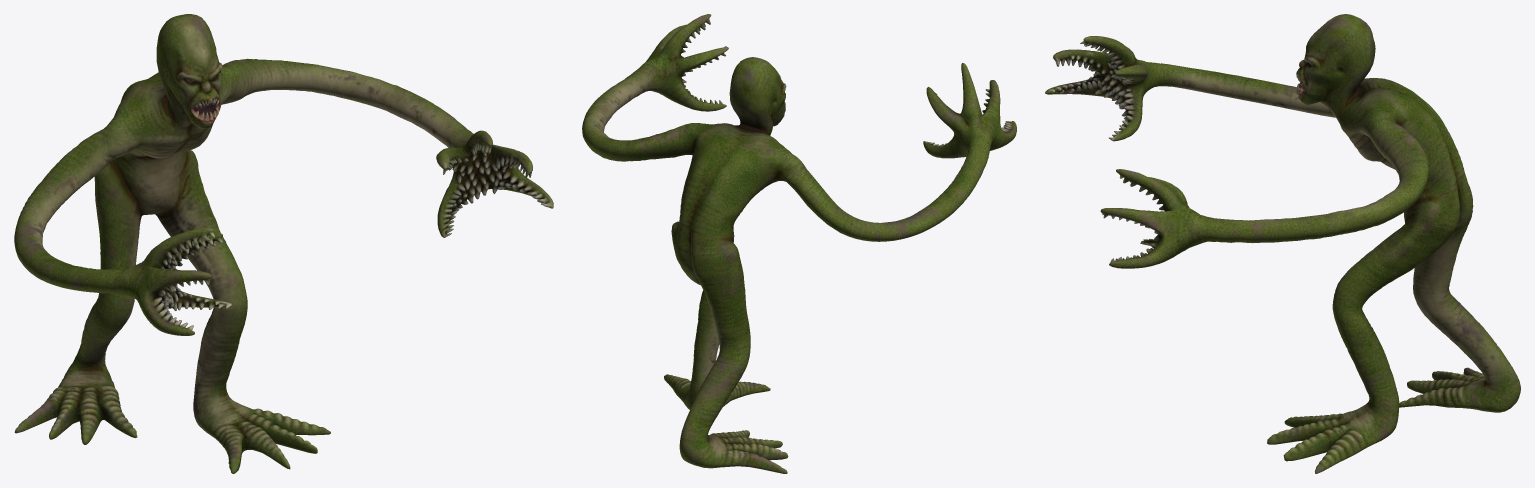
File: MZ4250 - Choker.glb
The picture shows the model from 3 angles, left to right: view 1: azimuth 30°, elevation 25°; view 2: azimuth 150°, elevation 25°; view 3: azimuth 270°, elevation 25°; orthographic projection. The views are drawn at different scales.
Parts seen in each view (by area): view 1: Body.002; view 2: Body.002; view 3: Body.002.
Part boxes in pixels (box(x1,y1,x2,y2)): Body.002: box(14, 14, 553, 473); Body.002: box(582, 14, 1016, 473); Body.002: box(1045, 14, 1520, 473).
Bounding box in the file's own units: 0.6502 × 0.6143 × 0.6586.
1 material, 1 textured.
